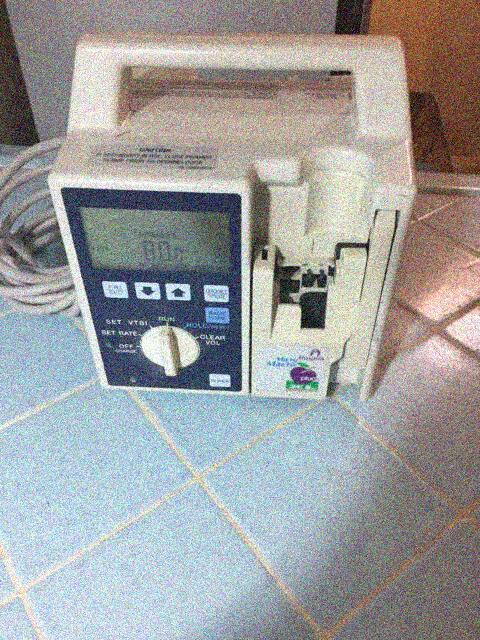plumxl1: (48, 30, 416, 401)
